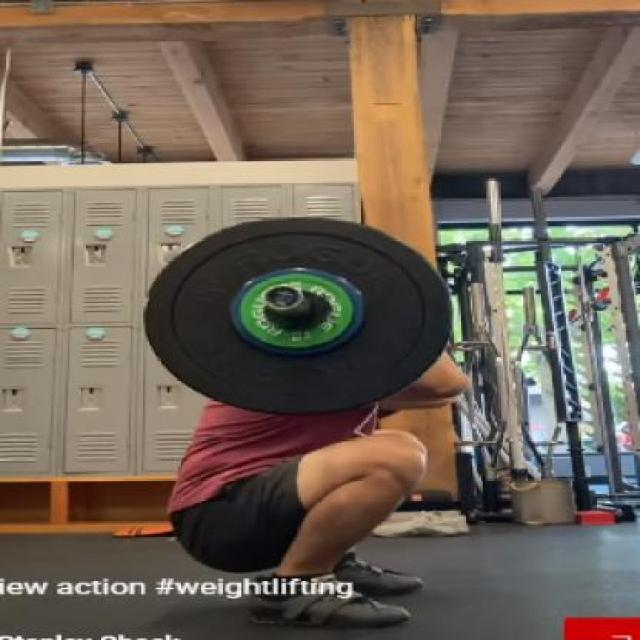barbell: (141, 211, 461, 419)
